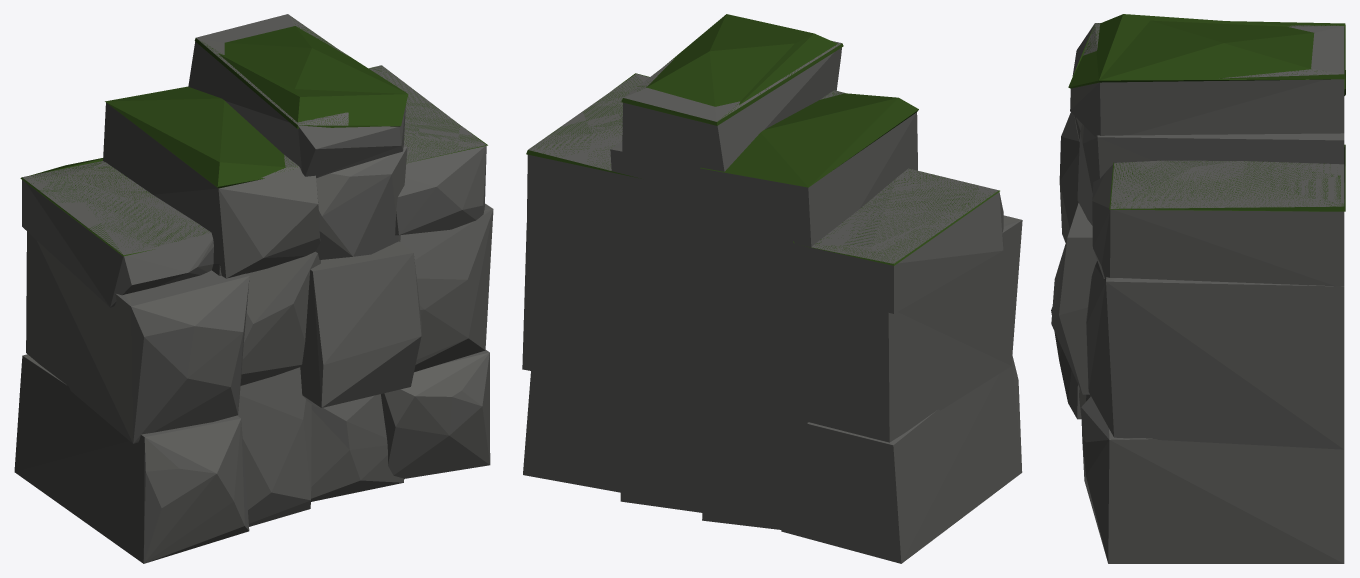
File: acantilado_a.fbx
The picture shows the model from 3 angles, left to right: view 1: azimuth 30°, elevation 25°; view 2: azimuth 150°, elevation 25°; view 3: azimuth 270°, elevation 25°; orthographic projection. The views are drawn at different scales.
Visible parts, largest first — view 1: acantilado_a; view 2: acantilado_a; view 3: acantilado_a.
Boxes of the visible parts, bbox=[...] form: acantilado_a: bbox=[14, 14, 493, 563]; acantilado_a: bbox=[522, 14, 1022, 563]; acantilado_a: bbox=[1051, 14, 1345, 563].
Size of the model in its own units: 11.05 by 11.57 by 6.81.
